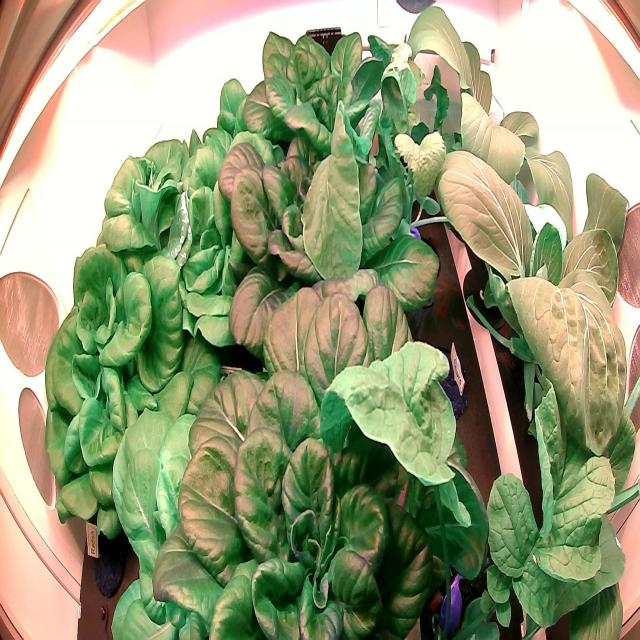Ready: (145, 272, 473, 640), (214, 116, 457, 383), (36, 237, 187, 540), (234, 13, 437, 191), (112, 398, 260, 638), (175, 144, 298, 370), (96, 119, 206, 360), (184, 77, 289, 212)
pod: (414, 333, 471, 430), (77, 511, 132, 607)
